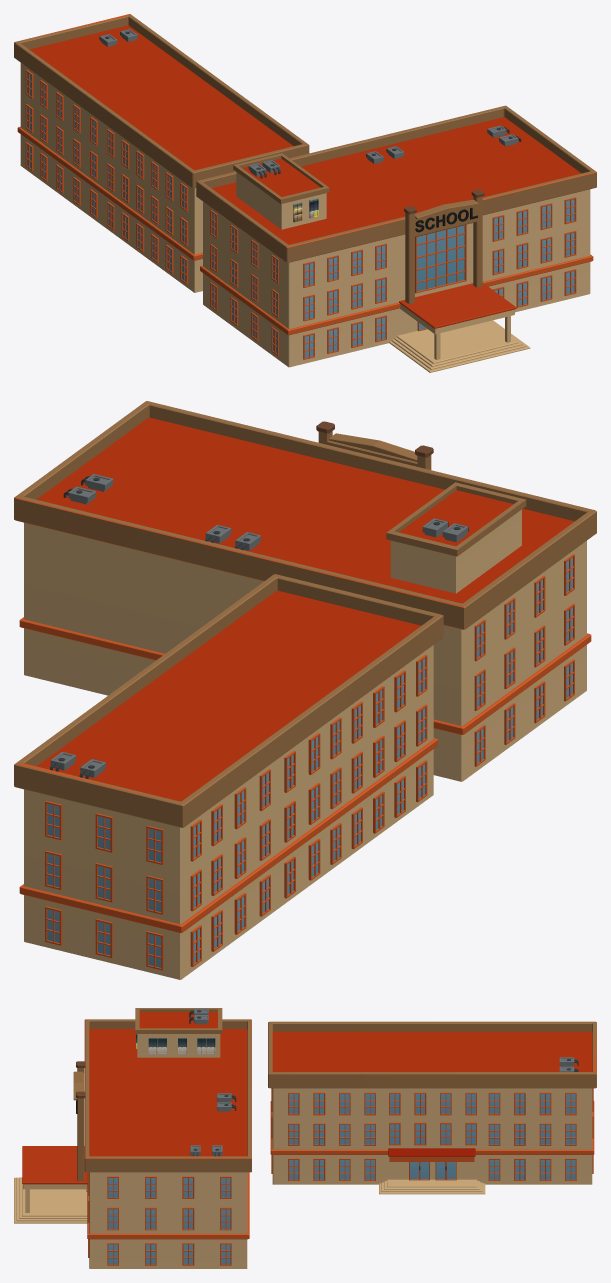
File: School.fbx
3 views of the same model, one above another, from view 1: azimuth 30°, elevation 25°; view 2: azimuth 150°, elevation 25°; view 3: azimuth 270°, elevation 25° (orthographic). The views are drawn at different scales.
Visible parts, largest first — view 1: School; view 2: School; view 3: School.
Part boxes in pixels (x1,y1,x2,y2): School: [14, 14, 596, 372]; School: [14, 401, 596, 979]; School: [14, 1008, 596, 1268].
Size of the model in its own units: 3544 by 1620 by 6284.
Materials: 1 (1 with a texture image).
